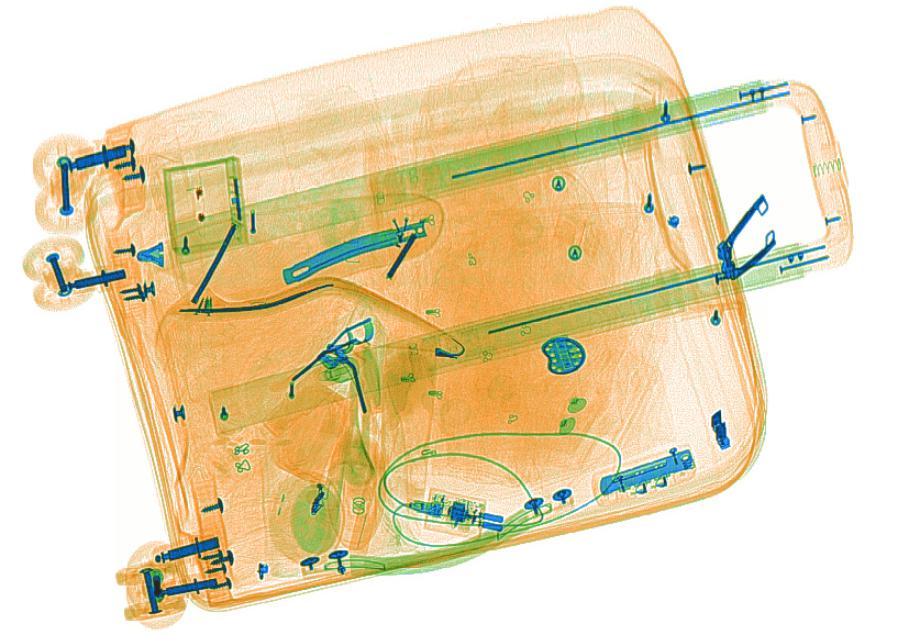plasticBottleWithaNozzle: (321, 430, 388, 550)
